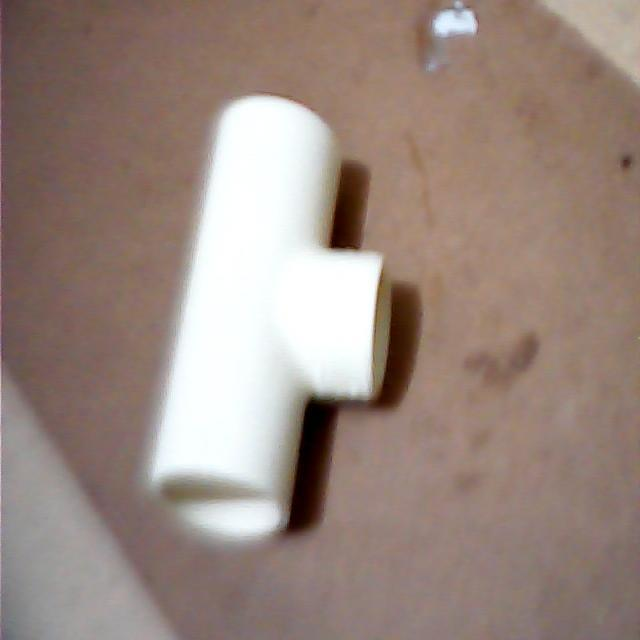T Joint: (148, 95, 392, 544)
